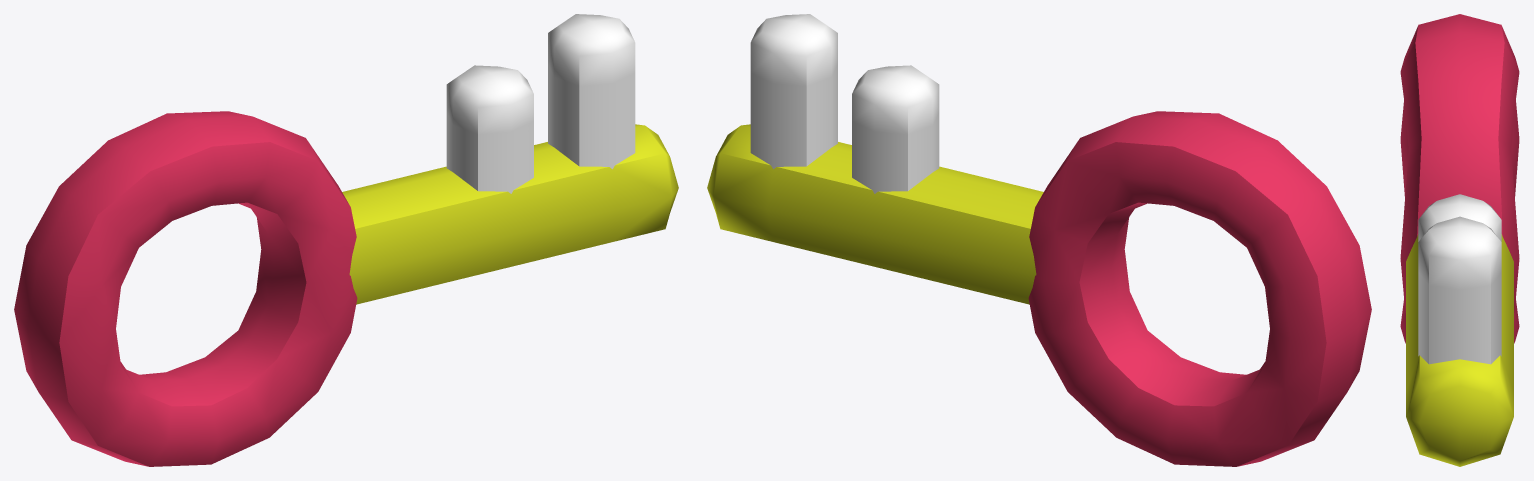
Rendered from Key.glb.
3 views of the same model, side by side, from view 1: azimuth 30°, elevation 25°; view 2: azimuth 150°, elevation 25°; view 3: azimuth 270°, elevation 25° (orthographic).
Visible parts, largest first — view 1: Key; view 2: Key; view 3: Key.
Part boxes in pixels (x1=…): Key: x1=14, y1=14, x2=678, y2=466; Key: x1=707, y1=14, x2=1371, y2=466; Key: x1=1400, y1=14, x2=1519, y2=466.
Size of the model in its own units: 1.93 by 0.9819 by 0.3177.
